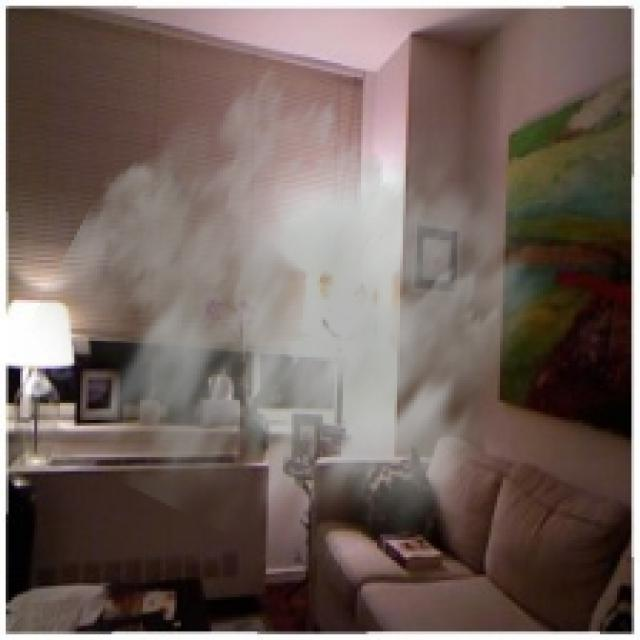smoke: (26, 63, 566, 617)
